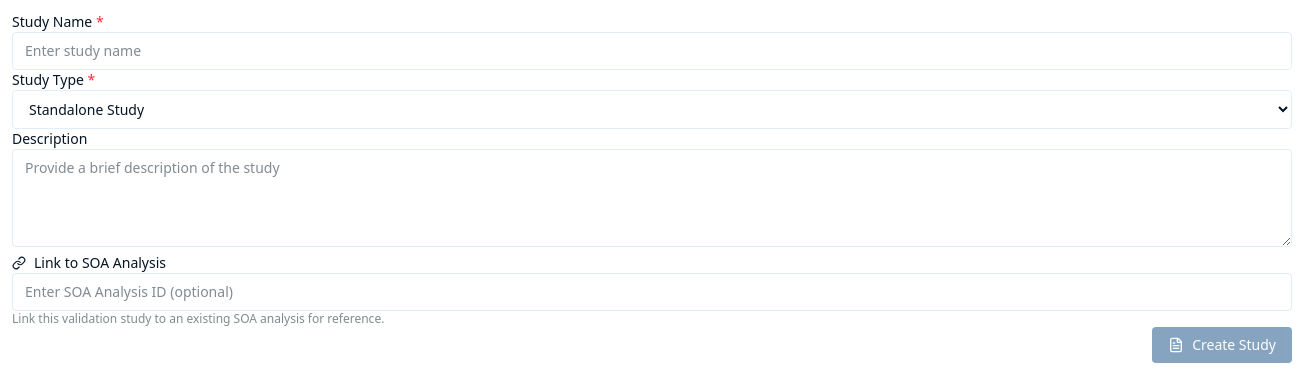
Test case: ValidationStudyForm › enables submit button when name provided
Type "My Study" into the field with test id "study-name-input".
click(652, 51); type("My Study")  # box [12, 32, 1292, 70]
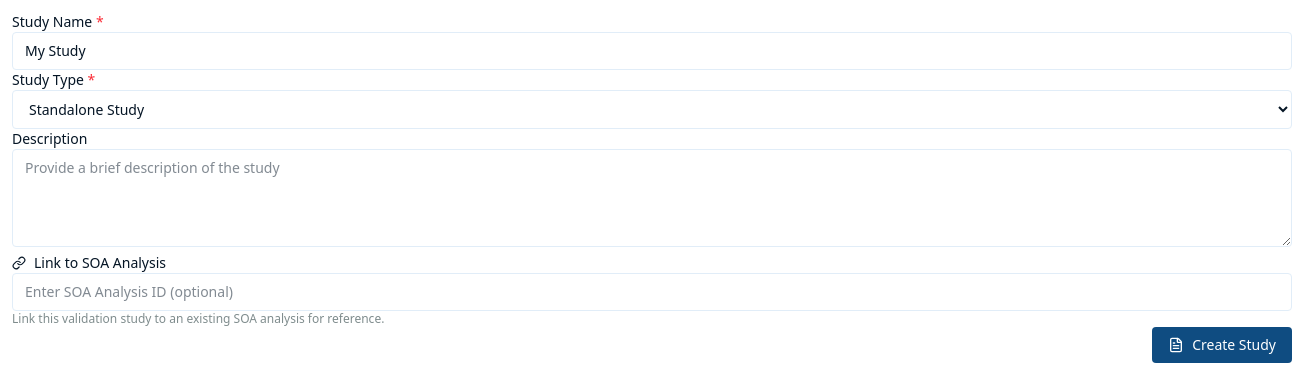
Result: the button with test id "submit-btn" is enabled at [1152, 327, 1292, 363]
